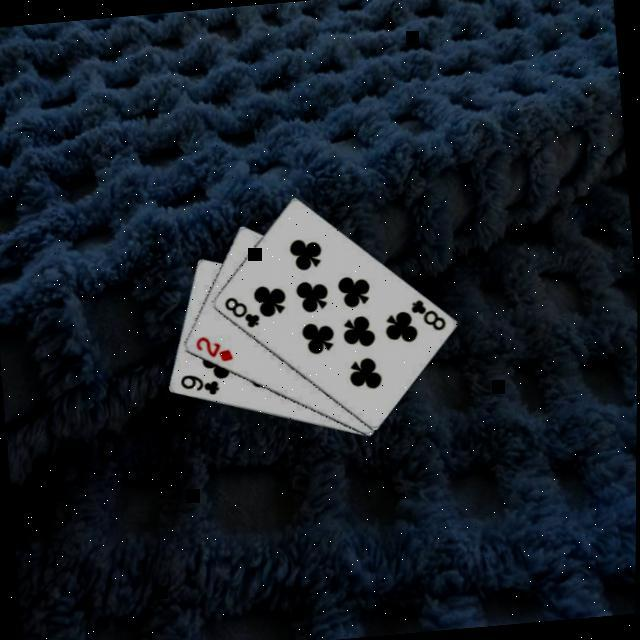2D: (190, 330, 235, 366)
8C: (406, 293, 448, 334), (219, 291, 262, 331)
9C: (175, 368, 221, 400)
